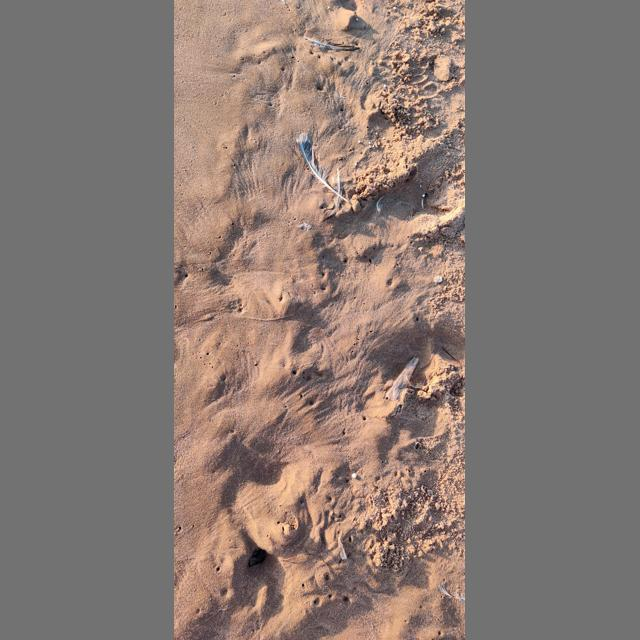litter: (386, 358, 420, 400), (338, 537, 346, 560)
